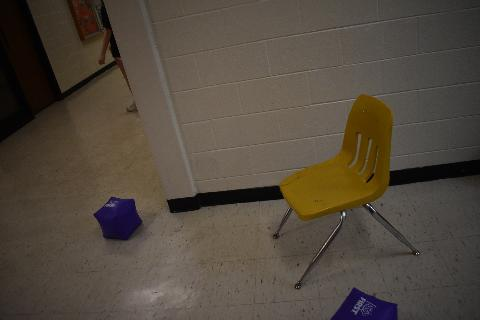cube: (330, 286, 398, 320), (93, 196, 142, 240)
